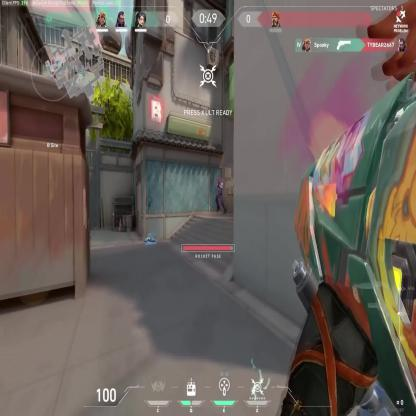enemy: (216, 175, 226, 216)
enemy_head: (218, 177, 221, 182)
